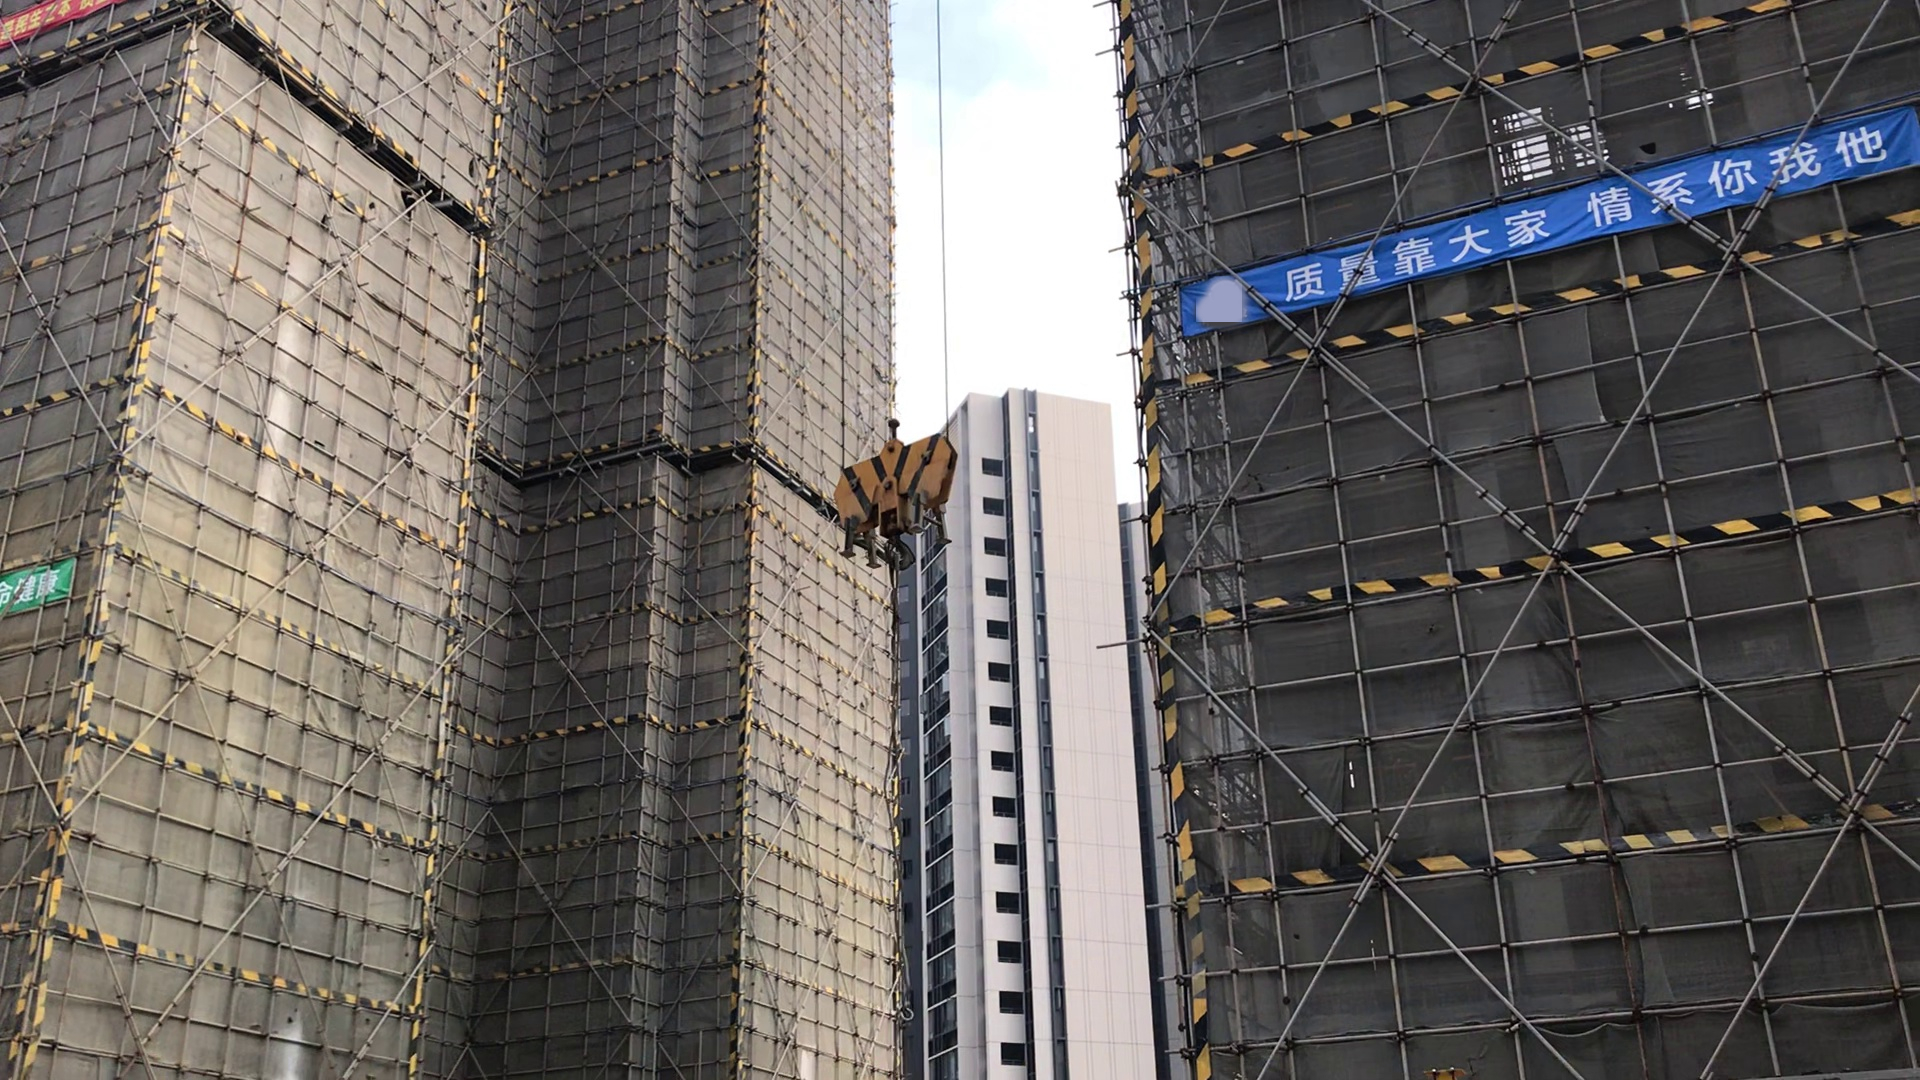hook: (810, 419, 964, 578)
slogan: (1158, 124, 1920, 316), (1, 555, 82, 615), (1, 1, 115, 40)
